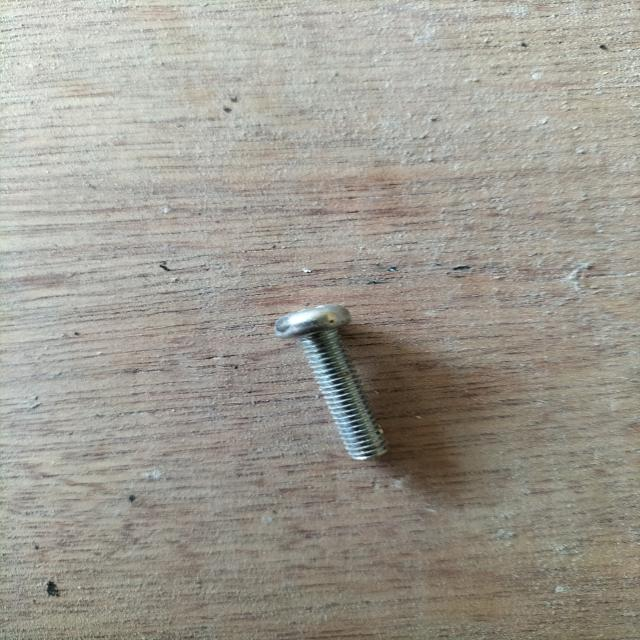bolt: (276, 304, 398, 460)
